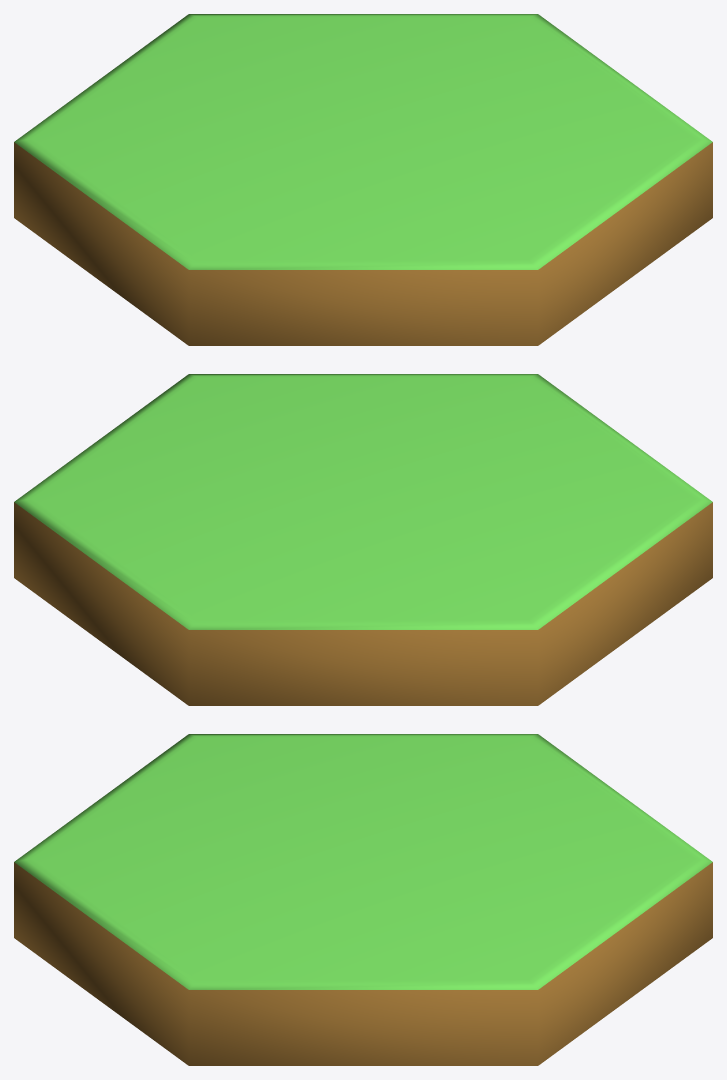
File: Hex.fbx
3 renders of one model, top to bottom at view 1: azimuth 30°, elevation 25°; view 2: azimuth 150°, elevation 25°; view 3: azimuth 270°, elevation 25°, orthographic.
Parts seen in each view (by area): view 1: Hex_1; view 2: Hex_1; view 3: Hex_1.
Boxes of the visible parts, x1,y1,x2,y2 form: Hex_1: (14,14,712,345); Hex_1: (14,374,712,705); Hex_1: (14,734,712,1065).
Bounding box in the file's own units: 1.73 × 0.25 × 2.
